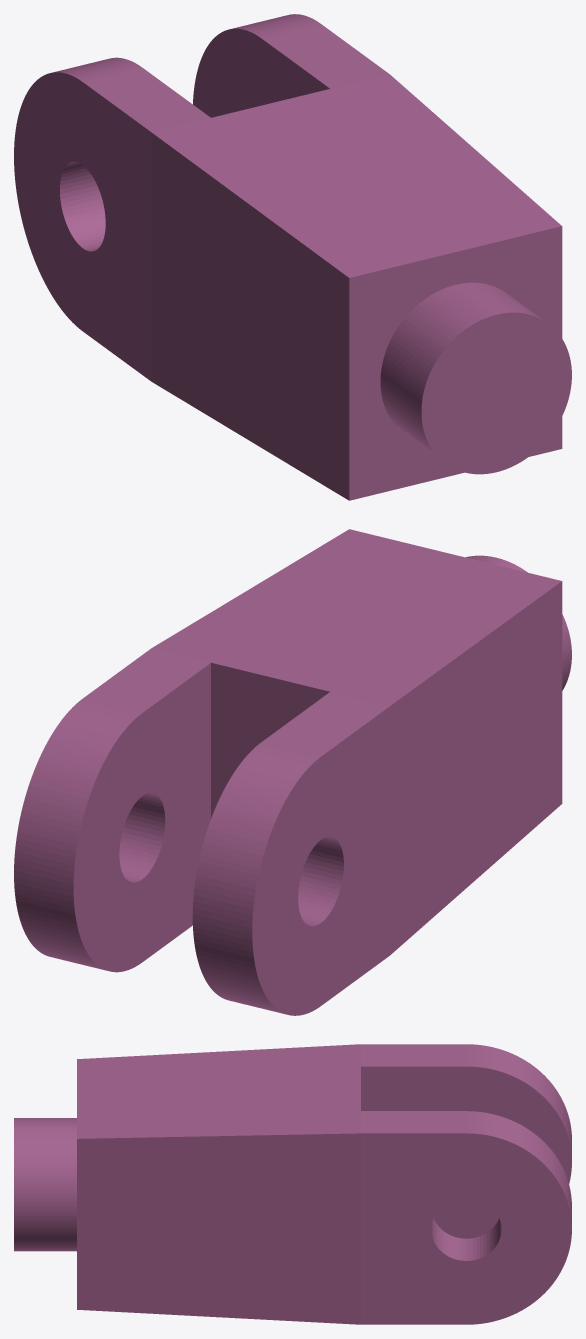
The picture shows the model from 3 angles, top to bottom: view 1: azimuth 30°, elevation 25°; view 2: azimuth 150°, elevation 25°; view 3: azimuth 270°, elevation 25°; orthographic projection. The views are drawn at different scales.
Parts seen in each view (by area): view 1: node; view 2: node; view 3: node.
Boxes of the visible parts, x1,y1,x2,y2 form: node: [14, 14, 571, 500]; node: [14, 529, 571, 1015]; node: [14, 1044, 571, 1324].
Bounding box in the file's own units: 0.0558 × 0.0558 × 0.1474.
